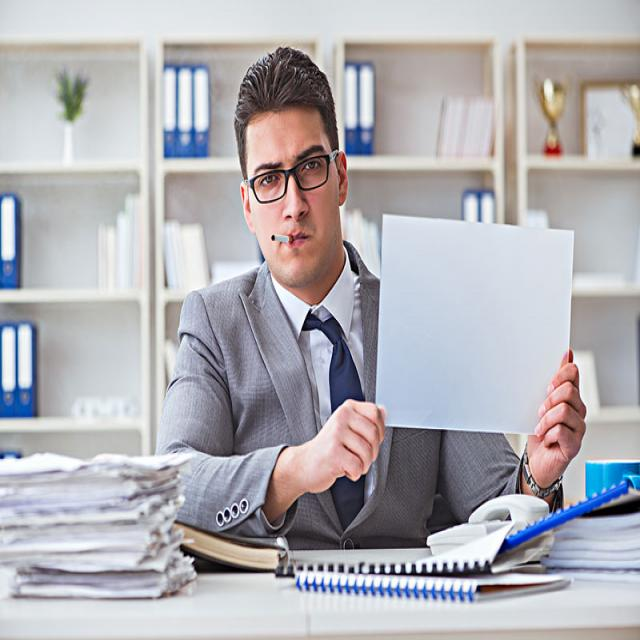smoking: (271, 232, 292, 245)
